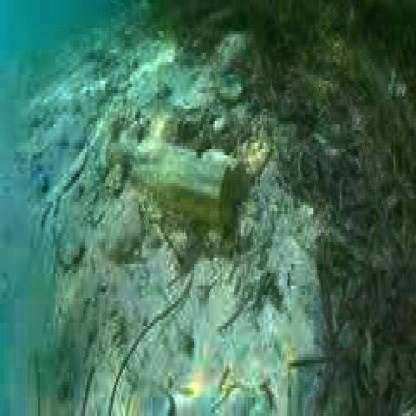gbottle: (108, 122, 242, 236)
